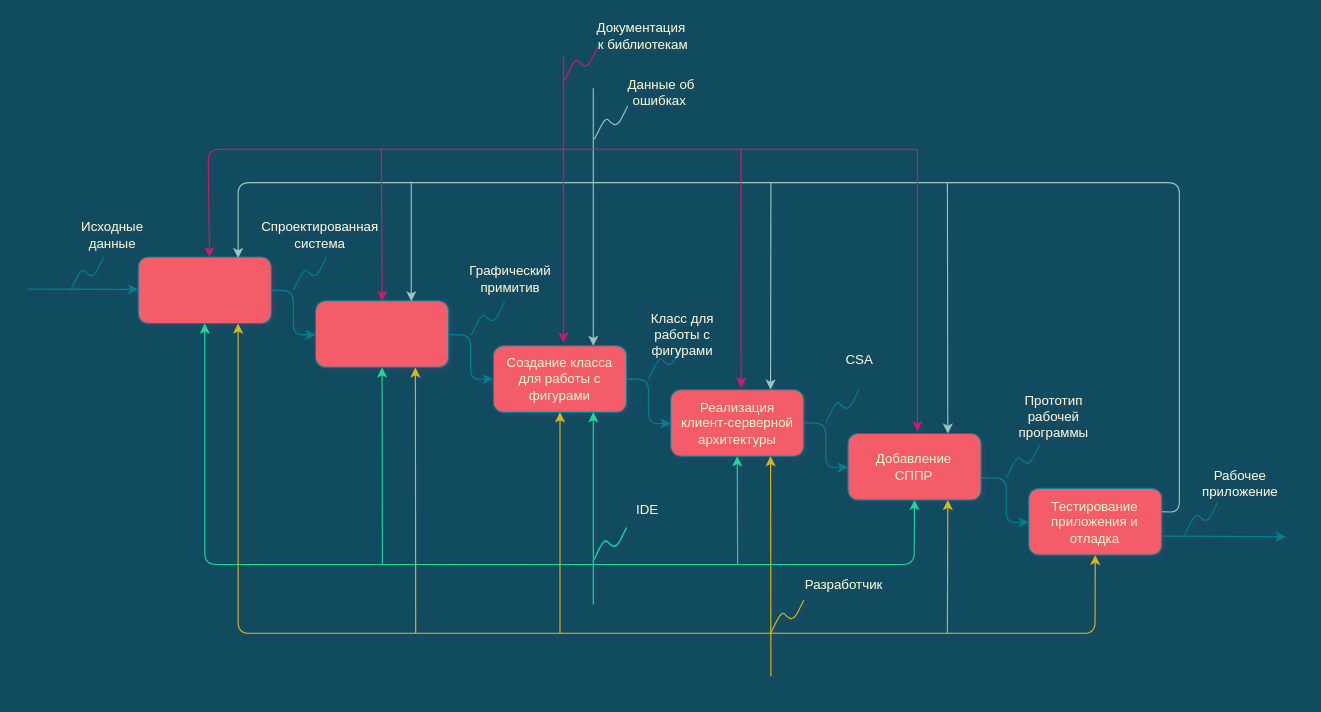
Image size: 1321x712. Some labels were removed from this diagram. Each missing label, with the centre of its shape:
Построение графического примитива: pixel 381 333
Проектирование программной системы: pixel 204 290
